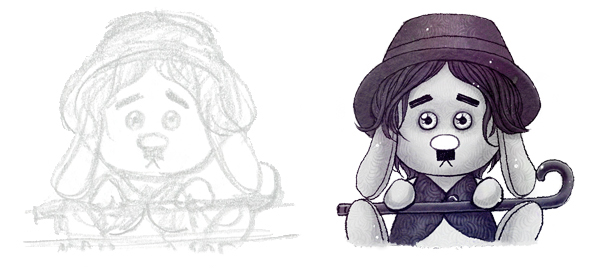dog: (40, 6, 302, 252), (338, 3, 581, 259)
